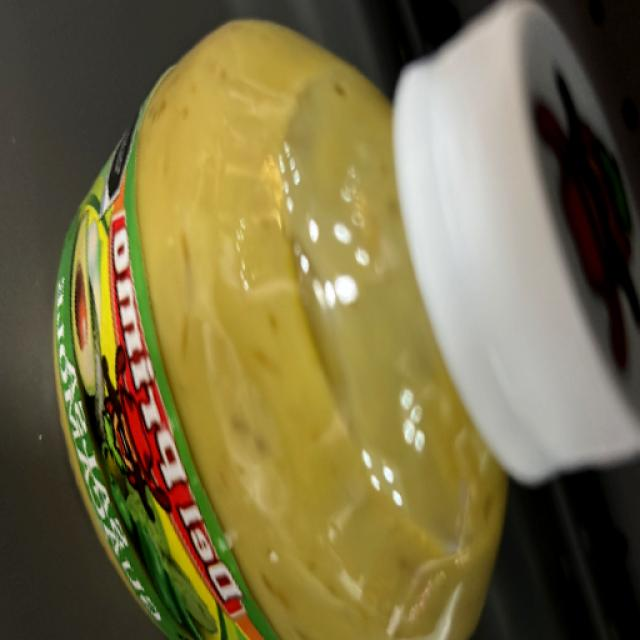delPrimoSalsa: (62, 4, 640, 617)
